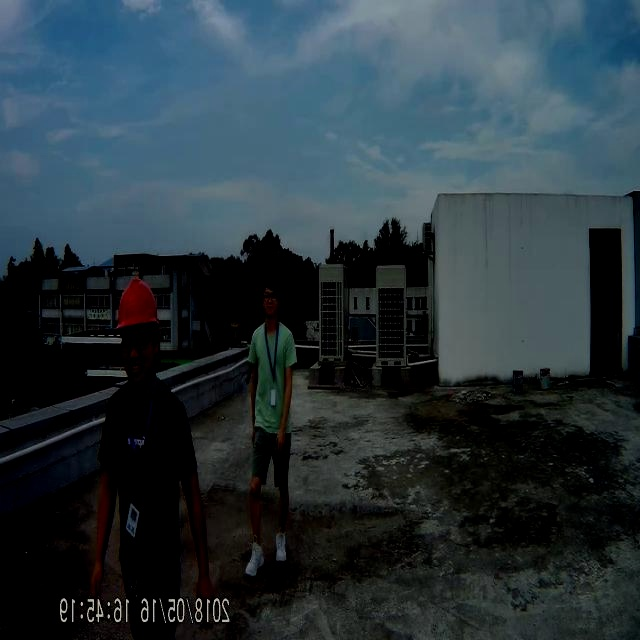Con_Casco: (118, 278, 159, 378)
Sin_Casco_Mascarrilla: (262, 276, 281, 319)
Sin_Chaleco: (100, 381, 187, 586), (248, 321, 296, 437)
